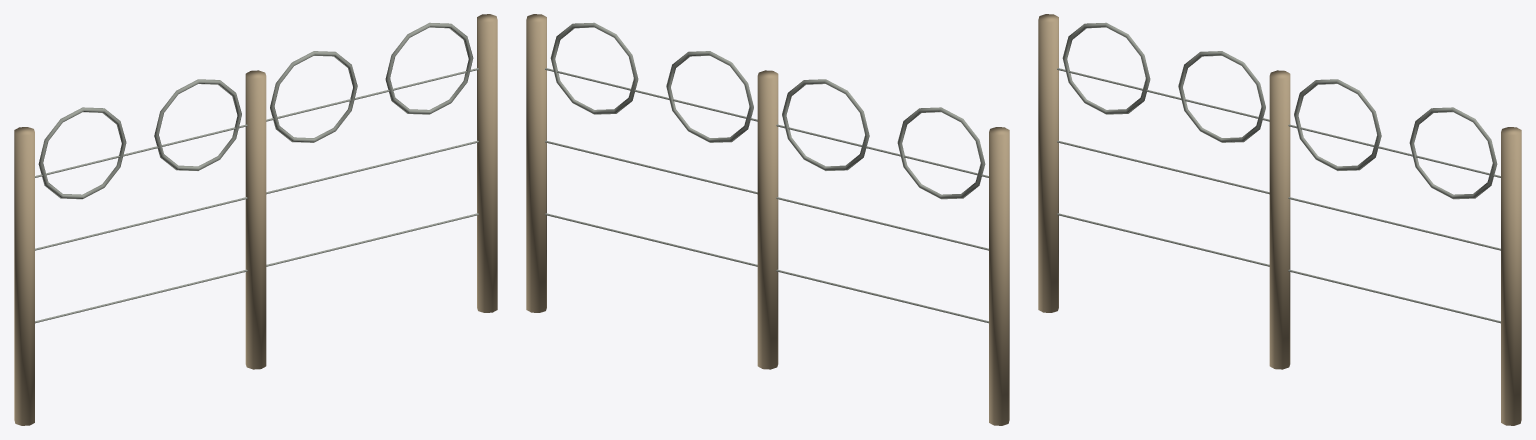
File: barbed_wire.glb
The picture shows the model from 3 angles, left to right: view 1: azimuth 30°, elevation 25°; view 2: azimuth 150°, elevation 25°; view 3: azimuth 330°, elevation 25°; orthographic projection.
Visible parts, largest first — view 1: bw_post1, bw_post0, bw_post2, bw_coil2, bw_coil0, bw_coil3, bw_coil1, bw_wire7, bw_wire4, bw_wire10; view 2: bw_post1, bw_post0, bw_post2, bw_coil2, bw_coil0, bw_coil3, bw_coil1, bw_wire4, bw_wire7, bw_wire10; view 3: bw_post1, bw_post2, bw_post0, bw_coil1, bw_coil0, bw_coil2, bw_coil3, bw_wire7, bw_wire4, bw_wire10.
Part boxes in pixels (x1=…): bw_post1: x1=245, y1=70, x2=266, y2=369; bw_post0: x1=14, y1=127, x2=34, y2=425; bw_post2: x1=477, y1=14, x2=497, y2=312; bw_coil2: x1=270, y1=51, x2=357, y2=142; bw_coil0: x1=38, y1=107, x2=126, y2=199; bw_coil3: x1=385, y1=22, x2=473, y2=114; bw_coil1: x1=154, y1=79, x2=241, y2=170; bw_wire7: x1=35, y1=140, x2=478, y2=250; bw_wire4: x1=35, y1=213, x2=478, y2=323; bw_wire10: x1=35, y1=68, x2=478, y2=177; bw_post1: x1=757, y1=70, x2=778, y2=369; bw_post0: x1=989, y1=127, x2=1009, y2=425; bw_post2: x1=526, y1=14, x2=546, y2=312; bw_coil2: x1=666, y1=51, x2=753, y2=142; bw_coil0: x1=897, y1=107, x2=985, y2=199; bw_coil3: x1=550, y1=22, x2=638, y2=114; bw_coil1: x1=782, y1=79, x2=869, y2=170; bw_wire4: x1=545, y1=213, x2=988, y2=323; bw_wire7: x1=545, y1=140, x2=988, y2=250; bw_wire10: x1=545, y1=68, x2=988, y2=177; bw_post1: x1=1269, y1=70, x2=1290, y2=369; bw_post2: x1=1501, y1=127, x2=1521, y2=425; bw_post0: x1=1038, y1=14, x2=1058, y2=312; bw_coil1: x1=1178, y1=51, x2=1265, y2=142; bw_coil0: x1=1062, y1=22, x2=1150, y2=114; bw_coil2: x1=1294, y1=79, x2=1381, y2=170; bw_coil3: x1=1409, y1=107, x2=1497, y2=199; bw_wire7: x1=1057, y1=140, x2=1500, y2=250; bw_wire4: x1=1057, y1=213, x2=1500, y2=323; bw_wire10: x1=1057, y1=68, x2=1500, y2=177.
Bounding box in the file's own units: 2.08 × 1.24 × 0.08.
